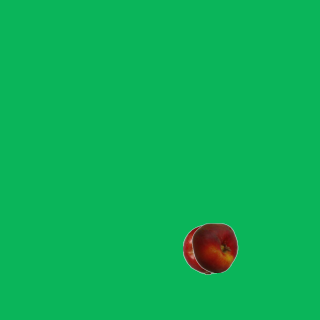Apple Braeburn: (182, 224, 232, 274)
Nectarine Flat: (189, 222, 239, 272)
